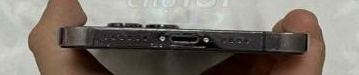scratch: (244, 30, 307, 57), (78, 26, 131, 48), (147, 37, 214, 52)
